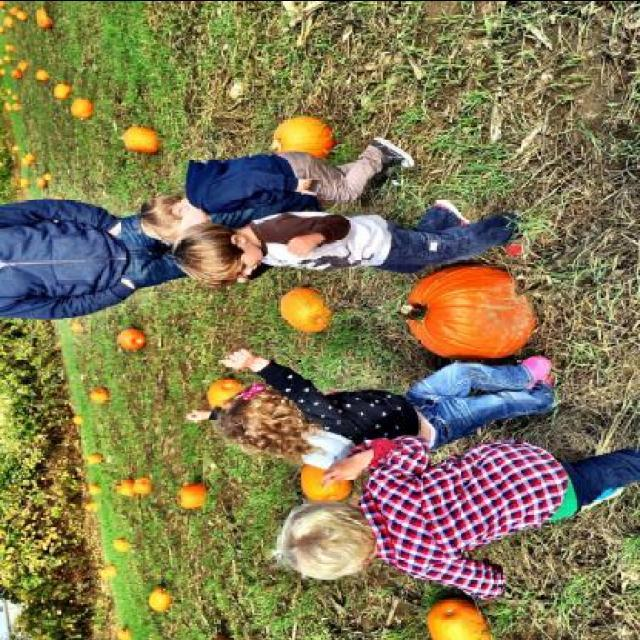Pumpkin: (402, 265, 536, 363), (424, 598, 494, 640), (264, 118, 332, 156), (276, 288, 332, 334), (300, 463, 352, 503), (204, 378, 240, 410), (116, 124, 154, 153), (174, 483, 208, 511), (147, 587, 175, 610), (70, 97, 96, 120), (114, 328, 146, 346), (114, 477, 136, 497), (130, 476, 152, 493), (88, 384, 106, 404), (52, 80, 70, 98), (34, 8, 51, 26), (34, 67, 51, 84), (112, 535, 130, 551), (115, 625, 133, 640), (85, 452, 102, 465), (68, 323, 86, 335), (88, 482, 100, 496), (70, 413, 84, 425), (83, 502, 97, 513), (33, 176, 45, 188), (8, 100, 20, 112), (97, 568, 108, 580), (105, 564, 116, 576), (8, 67, 20, 78), (17, 176, 28, 187), (16, 60, 27, 71), (24, 150, 32, 162), (10, 92, 18, 104), (16, 10, 28, 18), (3, 43, 14, 51), (11, 7, 20, 16), (42, 172, 52, 180), (8, 142, 17, 150), (50, 195, 64, 199), (0, 0, 4, 11), (5, 87, 9, 95), (18, 160, 26, 163), (0, 25, 3, 33)
